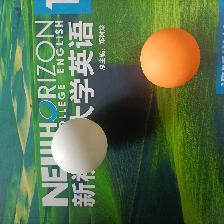WhiteBall: (50, 117, 108, 174)
YellowBall: (139, 27, 200, 88)
